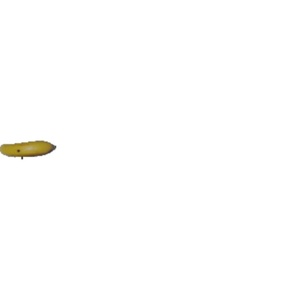banana: (1, 136, 58, 161)
